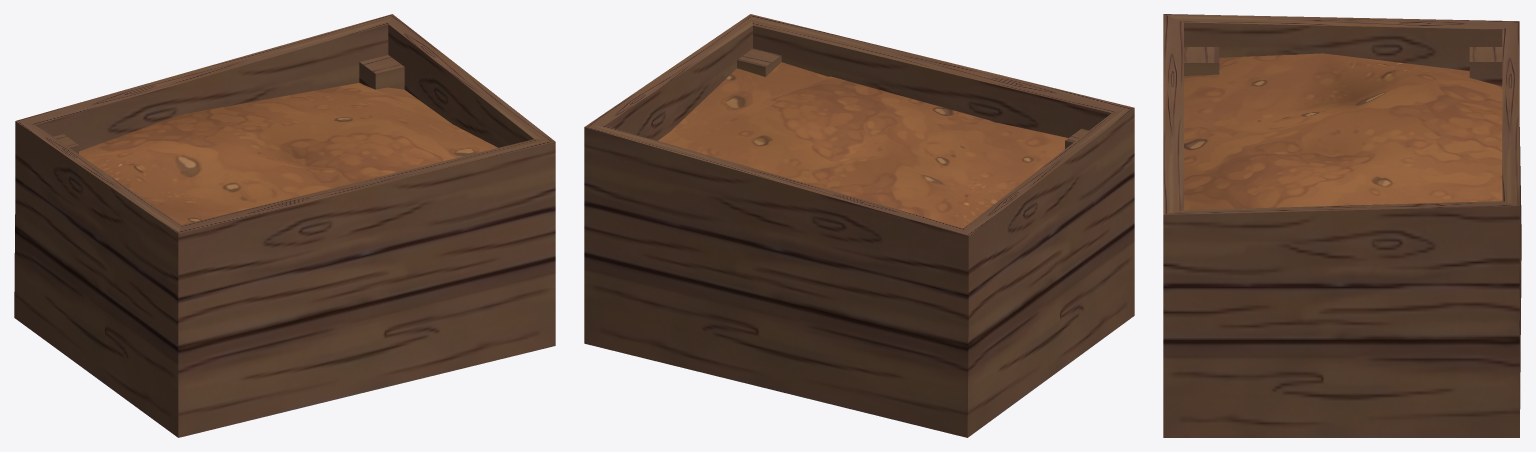
File: CompostBin01.glb
3 renders of one model, left to right at view 1: azimuth 30°, elevation 25°; view 2: azimuth 150°, elevation 25°; view 3: azimuth 270°, elevation 25°, orthographic. The views are drawn at different scales.
Visible parts, largest first — view 1: CompostBin; view 2: CompostBin; view 3: CompostBin.
Part boxes in pixels (bbox=[...]): CompostBin: bbox=[14, 14, 555, 437]; CompostBin: bbox=[584, 14, 1134, 437]; CompostBin: bbox=[1163, 14, 1521, 437].
Size of what is drawn, in the model's own units: 0.6161 by 0.3315 by 0.4641.
Materials: 1 (1 with a texture image).
